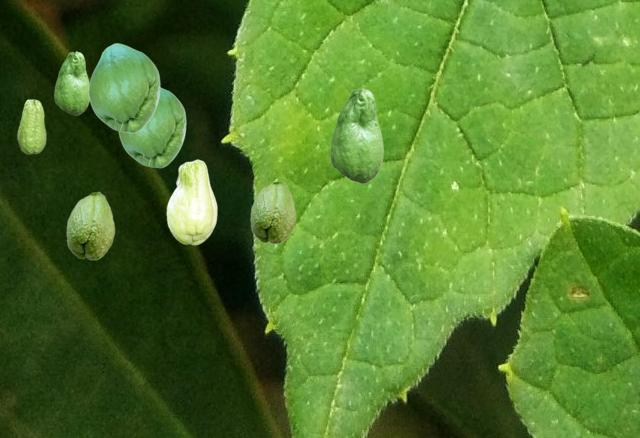sayote: (88, 43, 159, 132), (118, 86, 185, 167), (330, 88, 382, 182), (166, 159, 216, 244), (66, 191, 114, 259), (250, 180, 295, 243), (54, 51, 89, 114), (17, 99, 45, 153)
